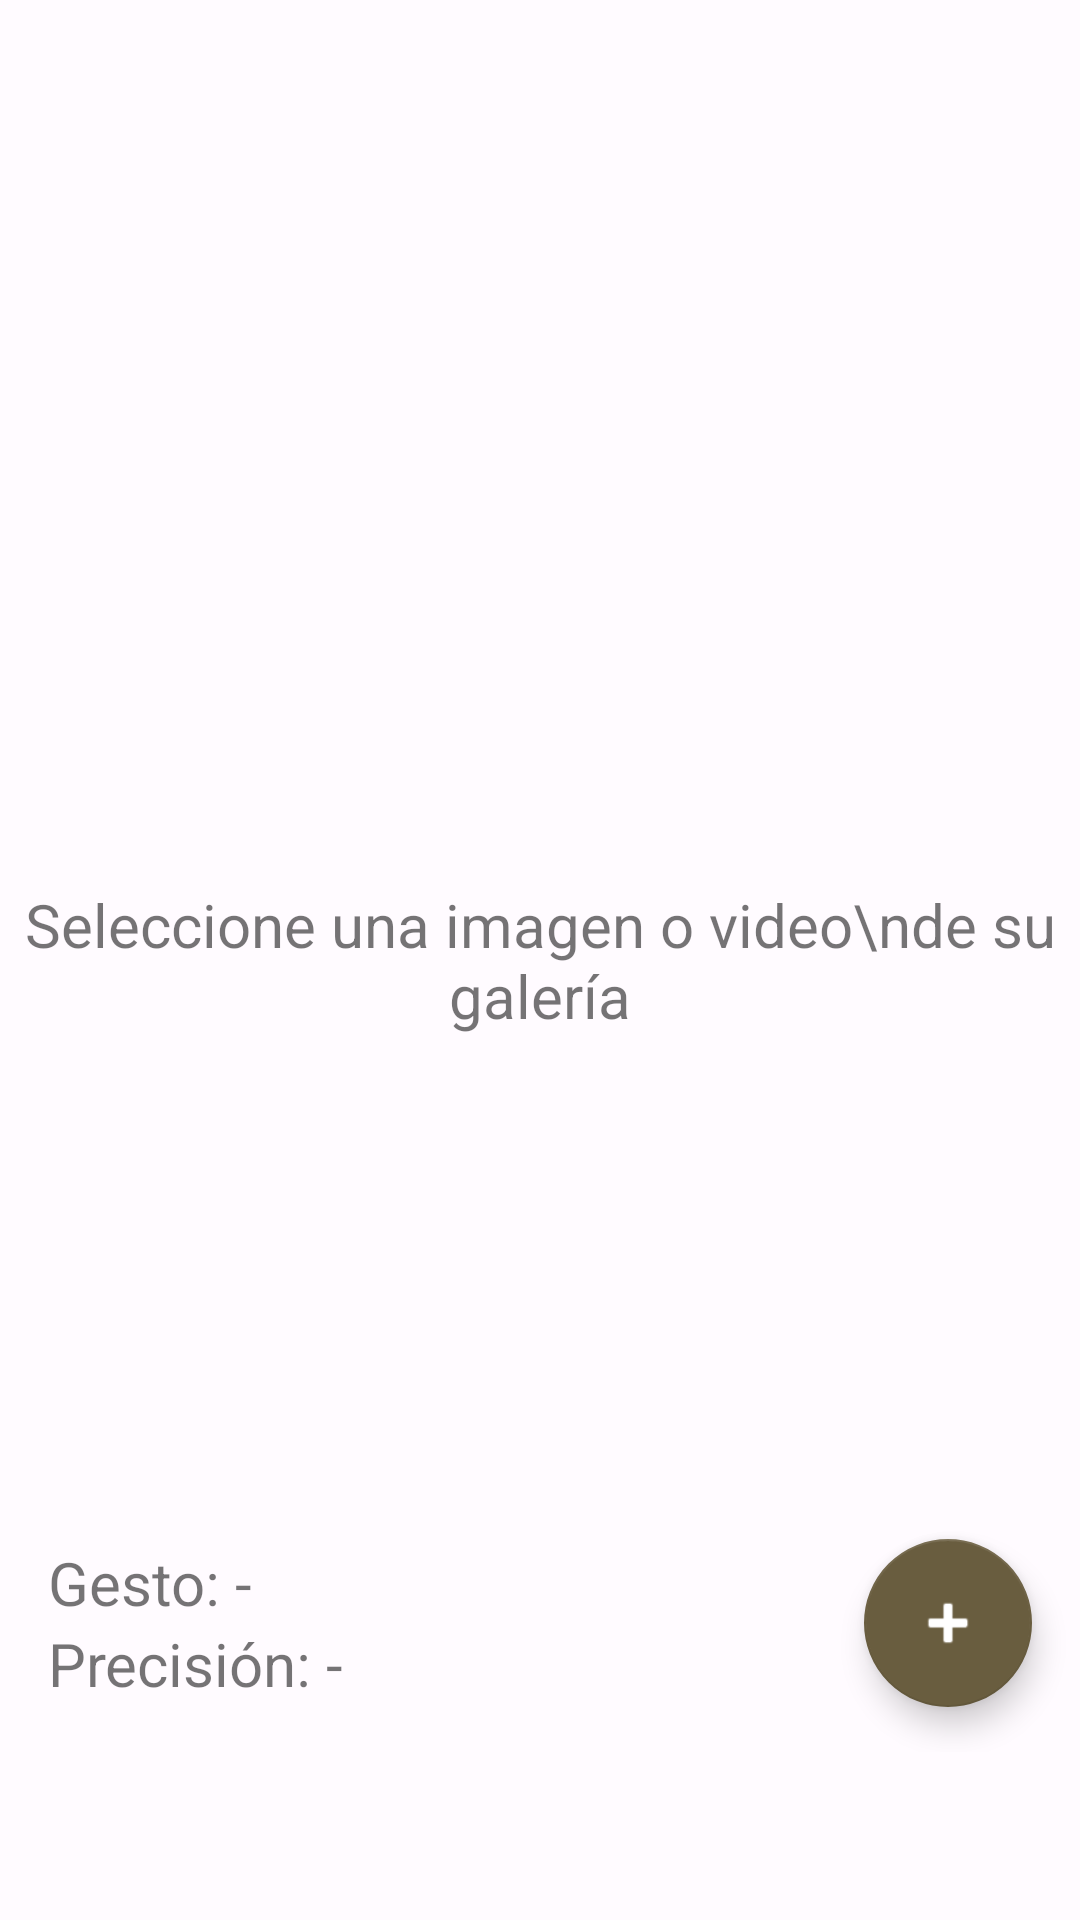

Screen size 1080px×1920px. Icon name, then its center in pixels as (x=x, y=y):
add: (x=948, y=1623)
